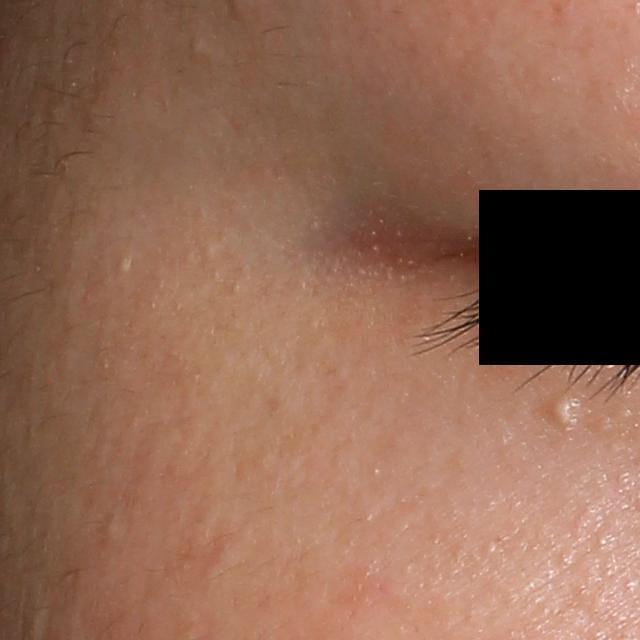comedo: (190, 35, 209, 55), (104, 519, 123, 534), (115, 258, 132, 274)
